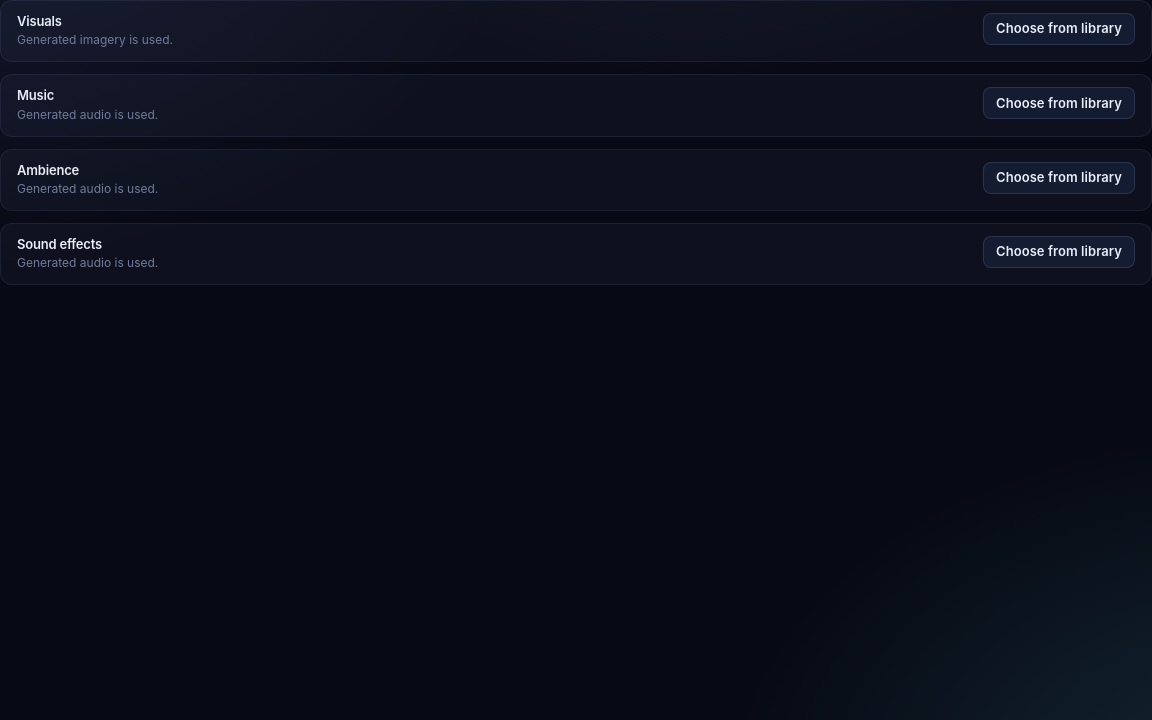
it: OwnMediaPanel › keeps unusable media out of the way but says how much there is and why
The image size is (1152, 720).
Step 1. Click the button "Choose from library" in the row of "Generated imagery is used." → click(1059, 29), box 983,13 -> 1135,45
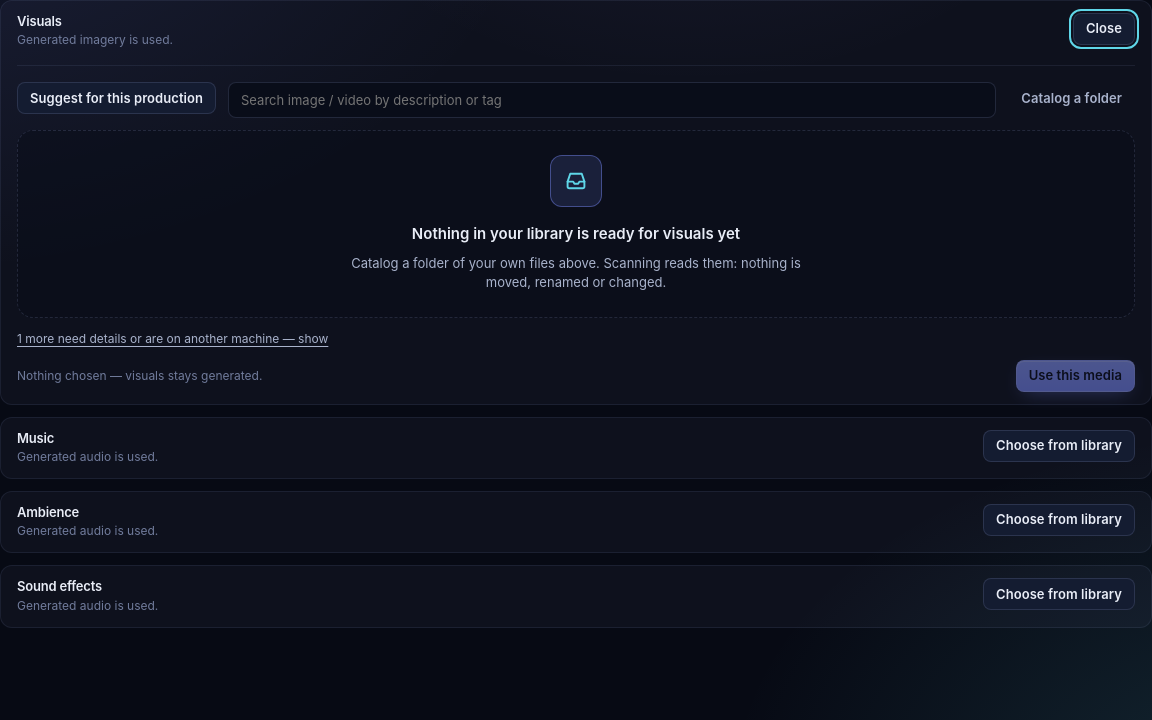
Now the text "Nothing in your library is ready for visuals yet" is shown, box 412,223 -> 740,246
Step 2. Click the button "1 more need details or are on another machine — show" → click(173, 339), box 17,330 -> 328,348
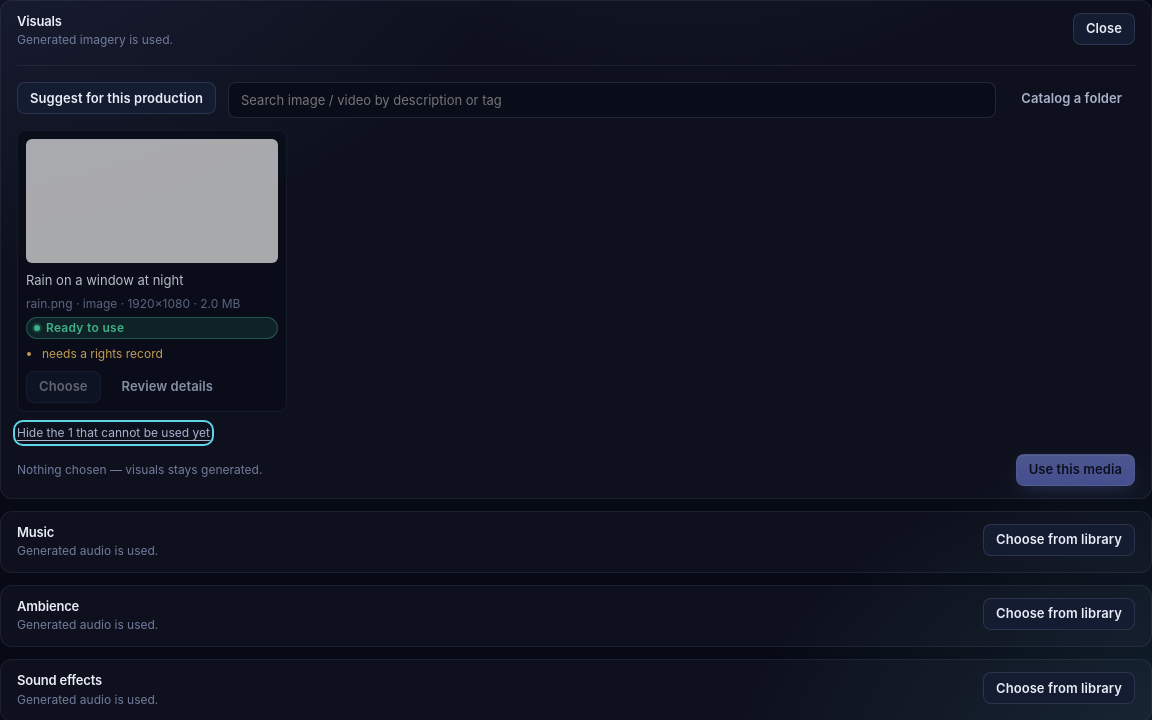
Now the list item "needs a rights record" is shown, box 42,346 -> 163,361
Now the button "Choose" is disabled, box 26,371 -> 101,403
Now the button "Review details" is enabled, box 109,371 -> 226,403
